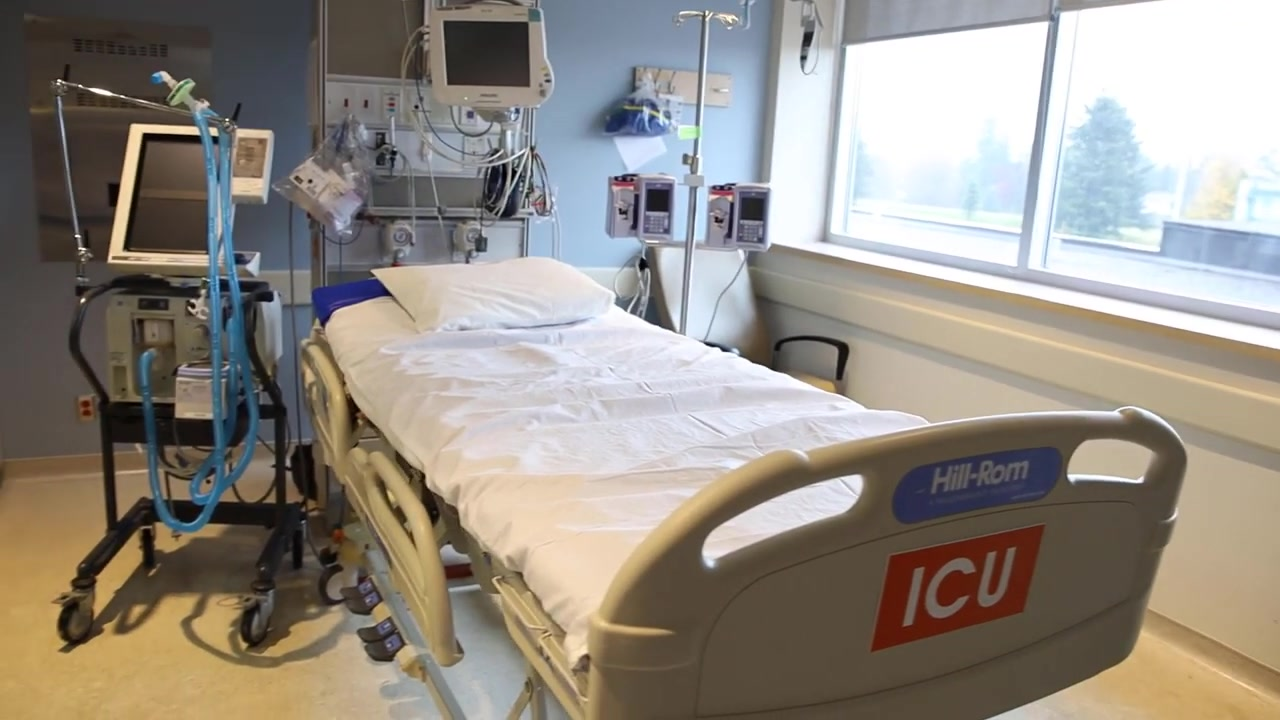bedrail: (343, 447, 465, 668), (298, 338, 351, 484)
bedside_monitor: (429, 3, 555, 108)
breathing_tube: (138, 72, 259, 534)
chair: (645, 246, 851, 396)
foot_board: (587, 406, 1187, 720)
hospital_bed: (299, 256, 1188, 720)
infusion_pump: (604, 172, 676, 241), (704, 181, 772, 252)
iv_pole: (672, 9, 738, 336)
ventilator: (104, 124, 286, 428)
